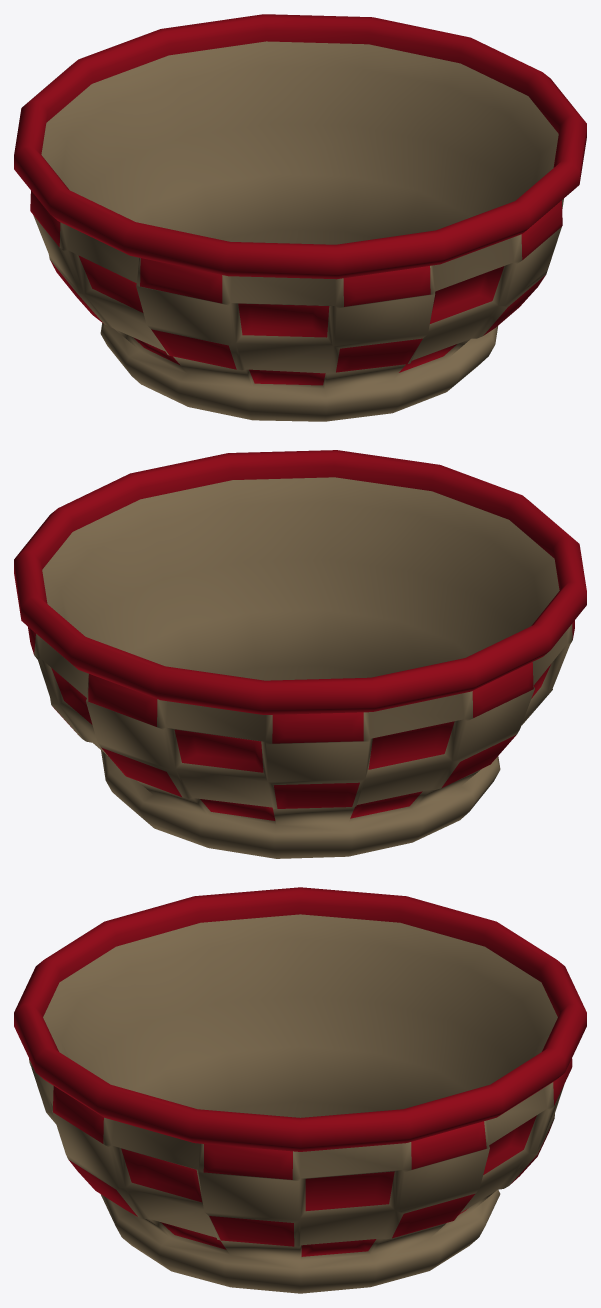
The model's file is FEUDBasket.fbx.
3 renders of one model, top to bottom at view 1: azimuth 30°, elevation 25°; view 2: azimuth 150°, elevation 25°; view 3: azimuth 270°, elevation 25°, orthographic.
Parts seen in each view (by area): view 1: Basket.001; view 2: Basket.001; view 3: Basket.001.
Part boxes in pixels (<box>): Basket.001: <box>14,14,586,421</box>; Basket.001: <box>14,450,586,858</box>; Basket.001: <box>14,887,586,1293</box>.
Bounding box in the file's own units: 241 × 104 × 241.
